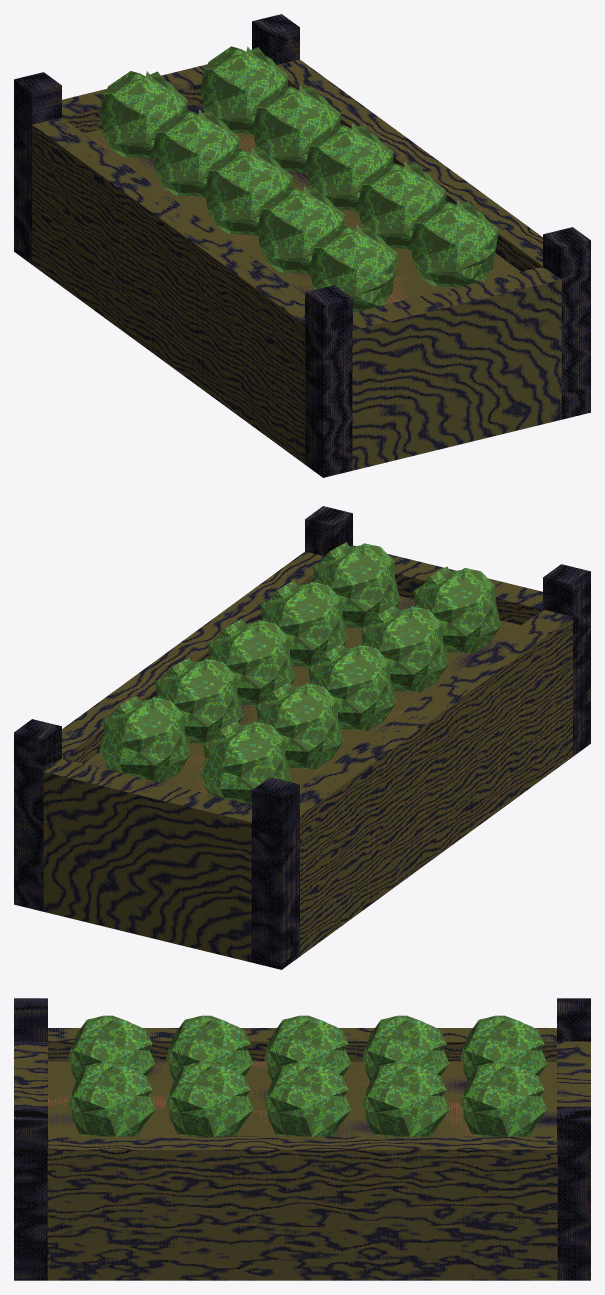
File: GreenHouse.fbx
3 views of the same model, one above another, from view 1: azimuth 30°, elevation 25°; view 2: azimuth 150°, elevation 25°; view 3: azimuth 270°, elevation 25° (orthographic). The views are drawn at different scales.
Parts seen in each view (by area): view 1: Sphere; view 2: Sphere; view 3: Sphere.
Part boxes in pixels (x1=…): Sphere: x1=14, y1=14, x2=590, y2=477; Sphere: x1=14, y1=506, x2=590, y2=969; Sphere: x1=14, y1=998, x2=590, y2=1280.
Bounding box in the file's own units: 0.7041 × 1.41 × 0.4826.
Materials: 5 (5 with a texture image).
